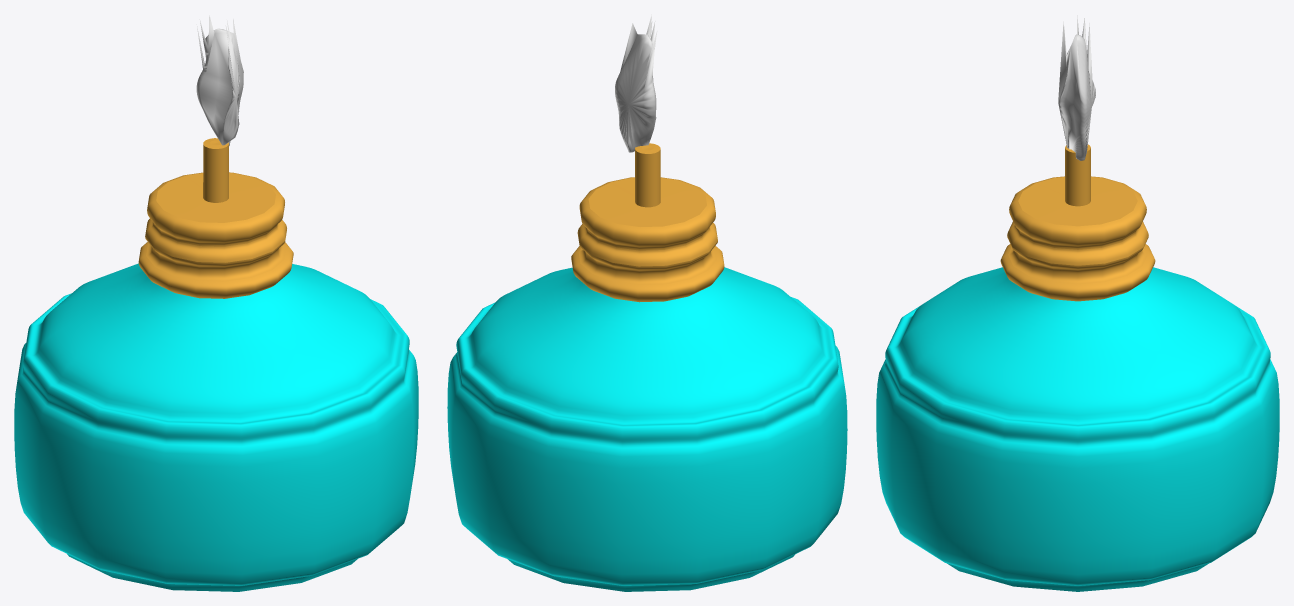
Rendered from lampa.FBX.
The picture shows the model from 3 angles, left to right: view 1: azimuth 30°, elevation 25°; view 2: azimuth 150°, elevation 25°; view 3: azimuth 270°, elevation 25°; orthographic projection.
Parts seen in each view (by area): view 1: Line001, Line002, Line003; view 2: Line001, Line002, Line003; view 3: Line001, Line002, Line003.
Boxes of the visible parts, x1,y1,x2,y2 form: Line001: (14,263,418,591); Line002: (138,138,293,298); Line003: (196,15,243,145); Line001: (447,267,847,591); Line002: (571,143,724,302); Line003: (615,14,657,152); Line001: (876,267,1279,591); Line002: (1000,144,1155,301); Line003: (1058,15,1095,160).
Size of the model in its own units: 10.21 by 14.12 by 10.21.
